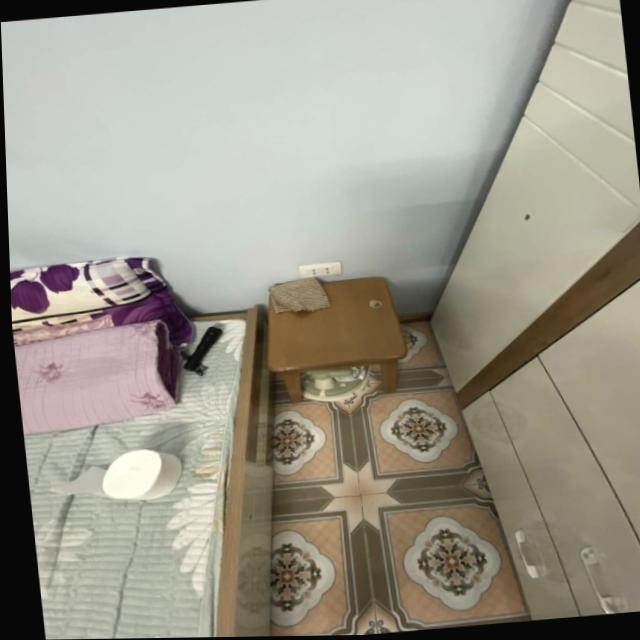outlet: (298, 261, 342, 278)
